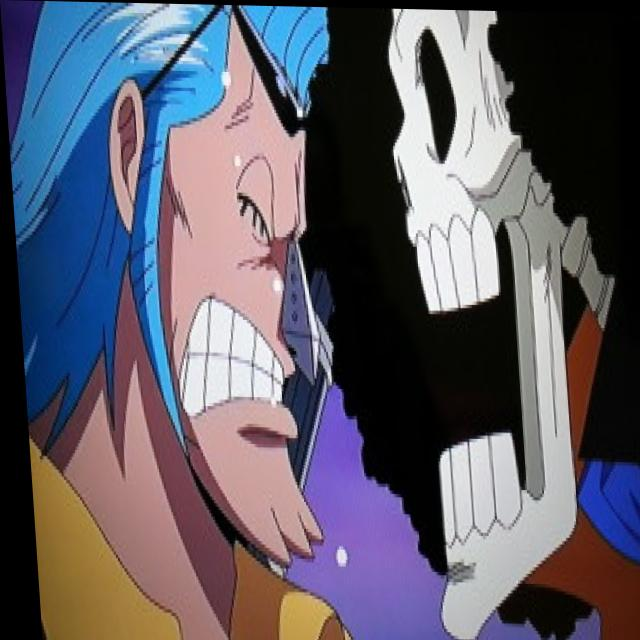Blook: (382, 7, 640, 640)
Franky: (0, 0, 351, 570)
